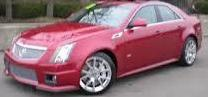front_view: (5, 30, 80, 91)
headlight: (48, 42, 79, 66)
side_glass: (123, 3, 187, 34)
